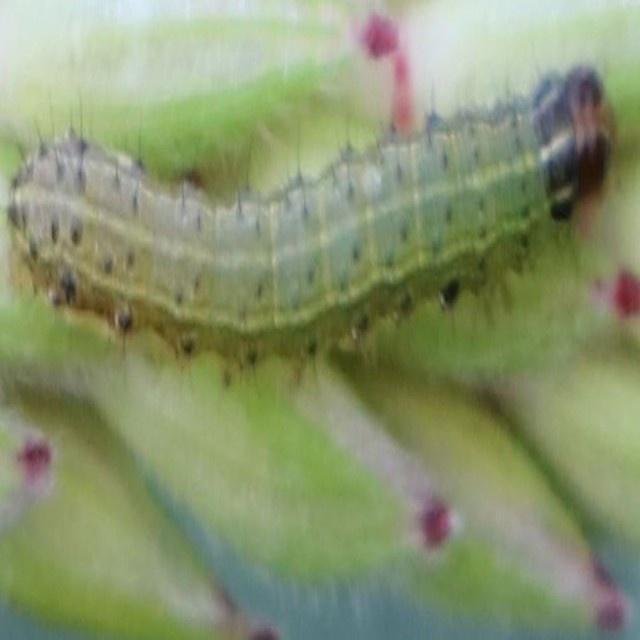worm: (7, 63, 617, 387)
